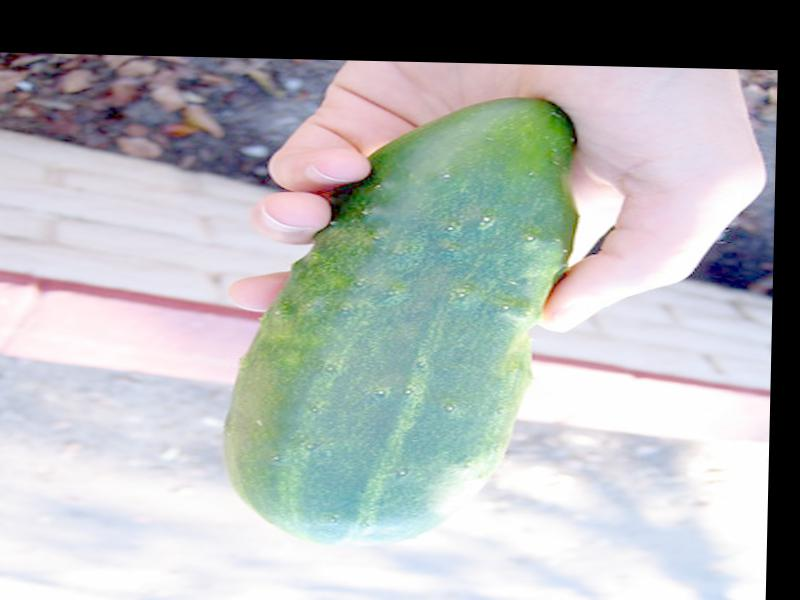Cucumber: (218, 91, 578, 547)
